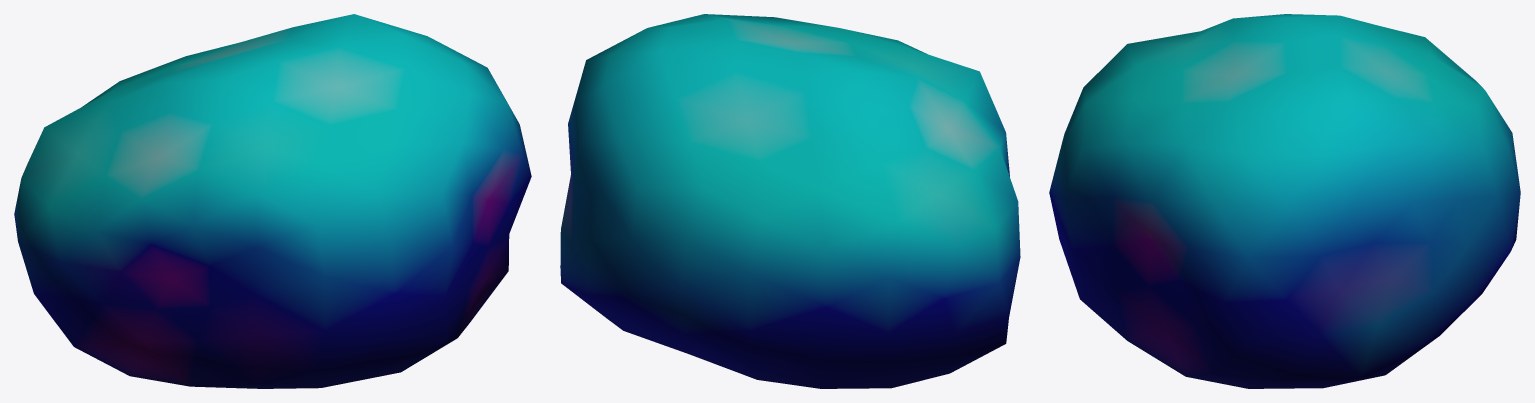
Rendered from RockAngular_2_lod1.glb.
3 views of the same model, side by side, from view 1: azimuth 30°, elevation 25°; view 2: azimuth 150°, elevation 25°; view 3: azimuth 270°, elevation 25° (orthographic).
Visible parts, largest first — view 1: RockAngular_2_lod1; view 2: RockAngular_2_lod1; view 3: RockAngular_2_lod1.
Boxes of the visible parts, x1,y1,x2,y2 form: RockAngular_2_lod1: (14, 14, 531, 388); RockAngular_2_lod1: (560, 14, 1020, 388); RockAngular_2_lod1: (1049, 14, 1520, 388).
Size of the model in its own units: 2.25 by 1.34 by 2.
